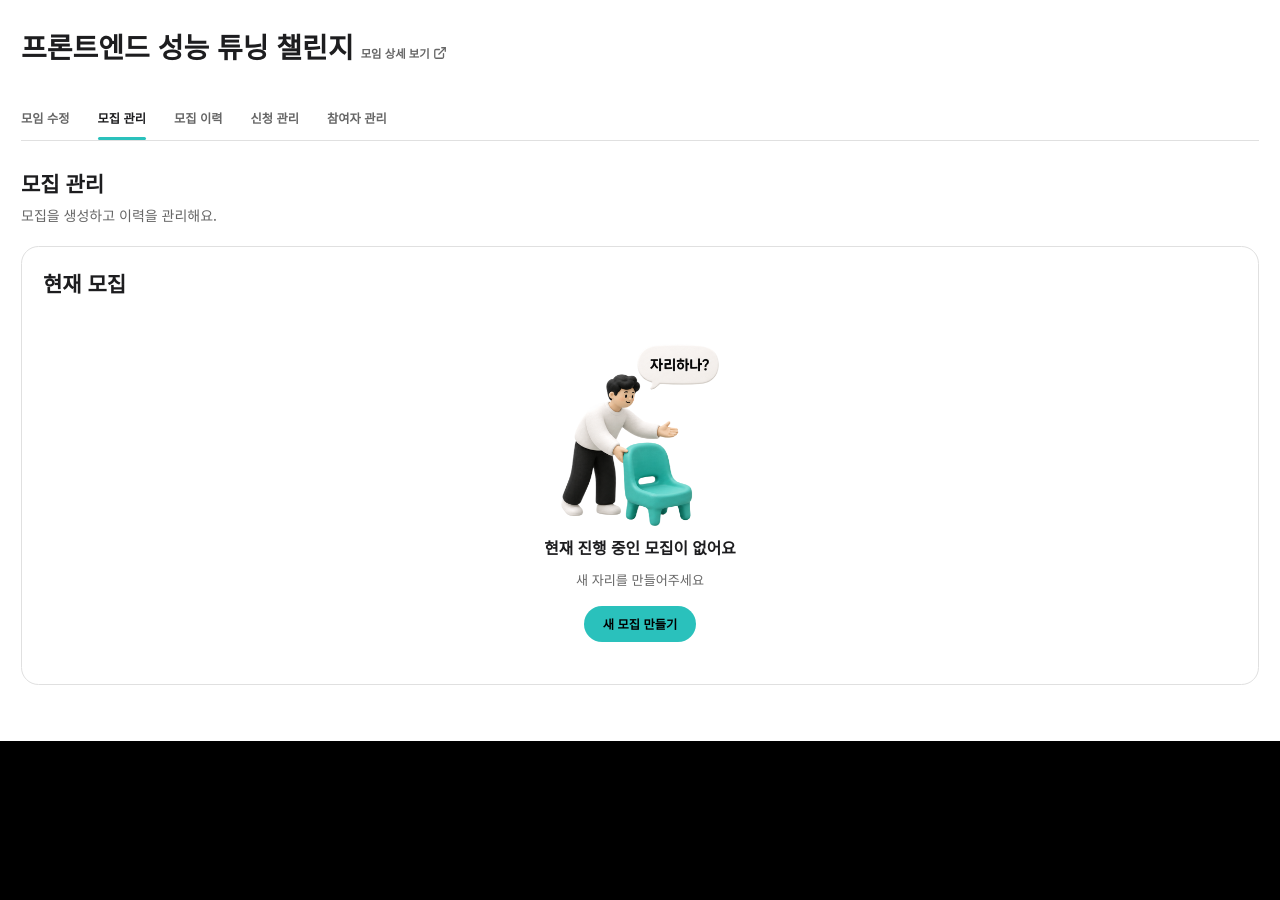
Test case: ManageRecruitmentsPage › Given an untouched default period, When creation is cancelled, Then it exits without a discard warning
Click the button "새 모집 만들기" at coordinates (640, 624), box [584, 606, 696, 642]
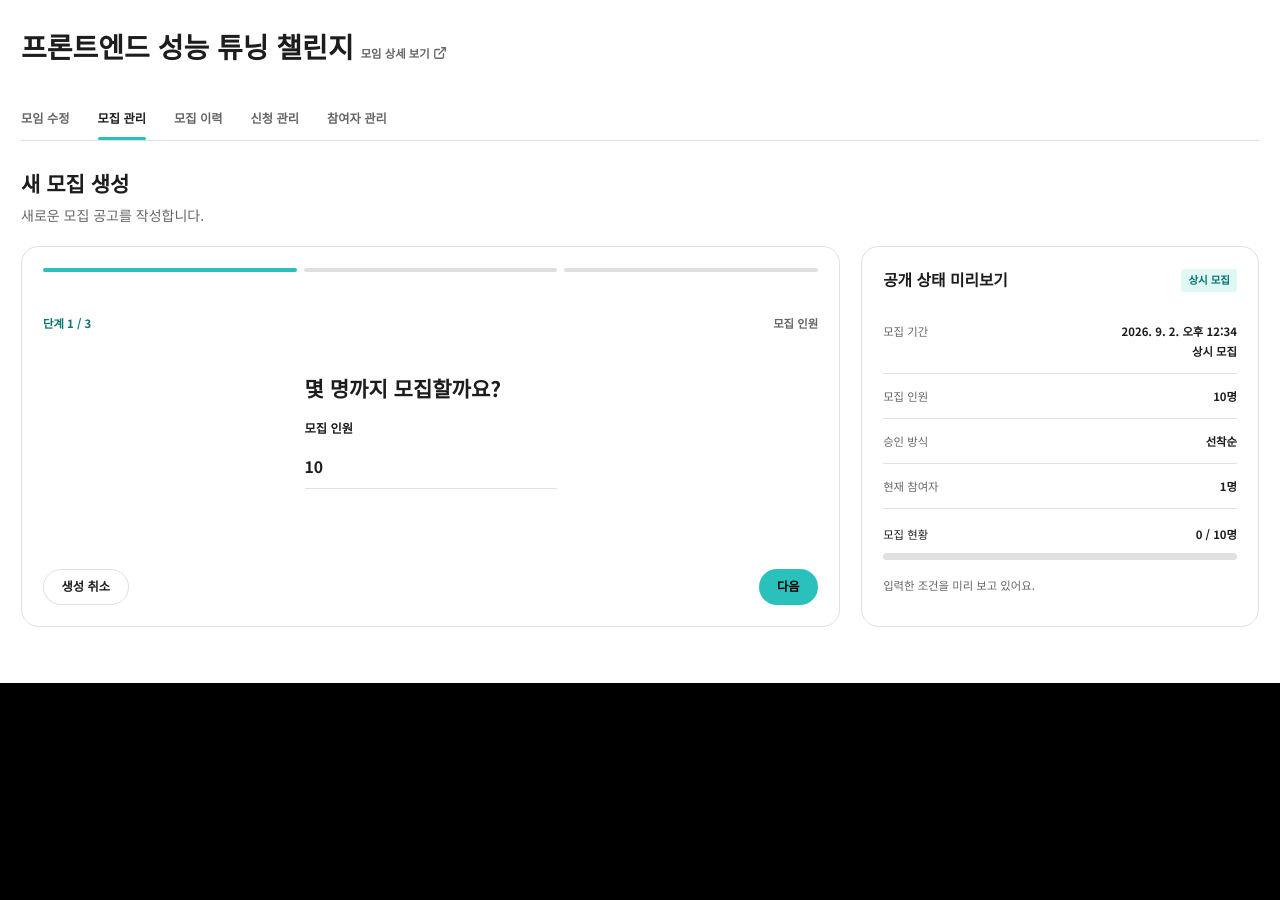
Click the button "생성 취소" at coordinates (86, 586), box [43, 568, 128, 604]
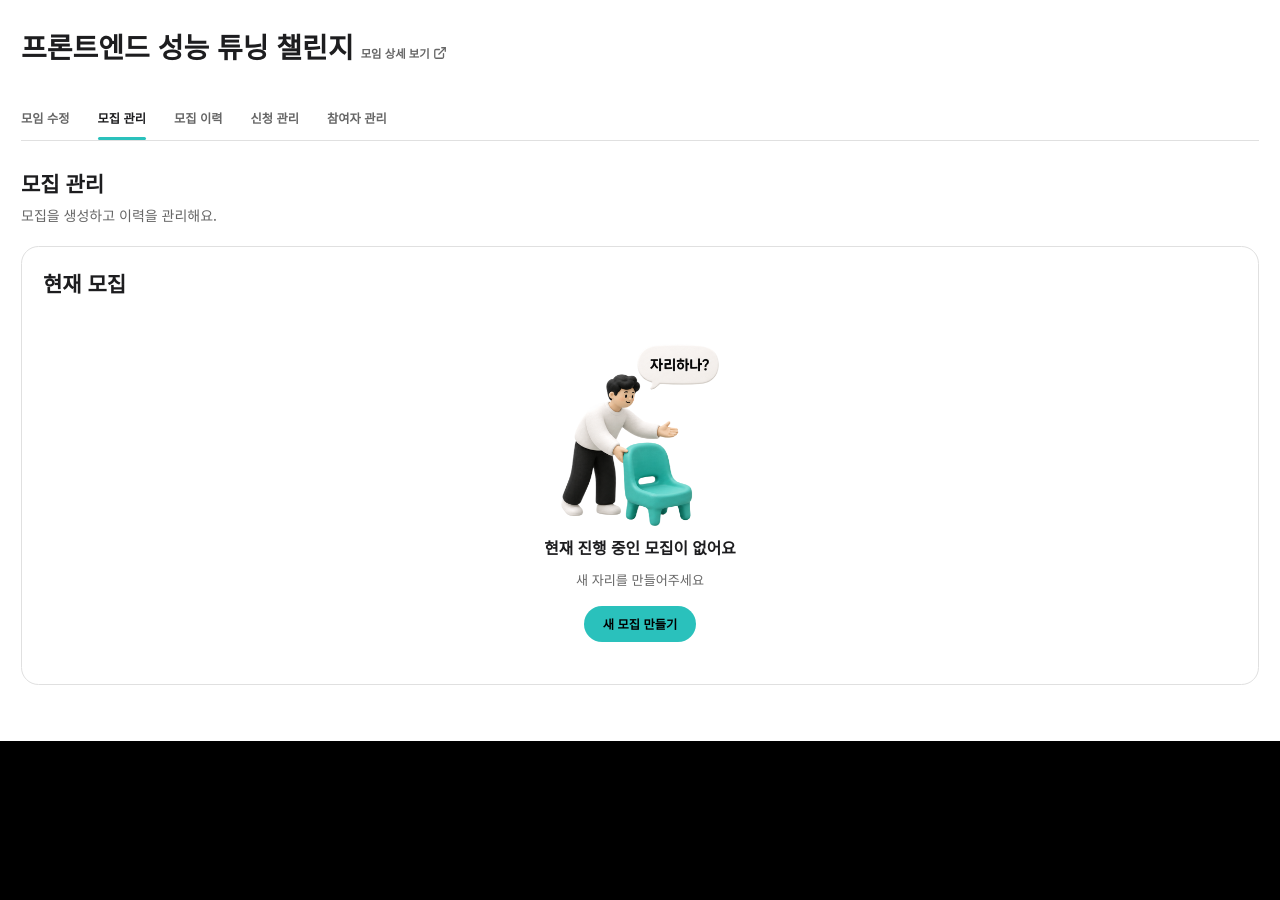
Now the button "새 모집 만들기" is shown, box [584, 606, 696, 642]
